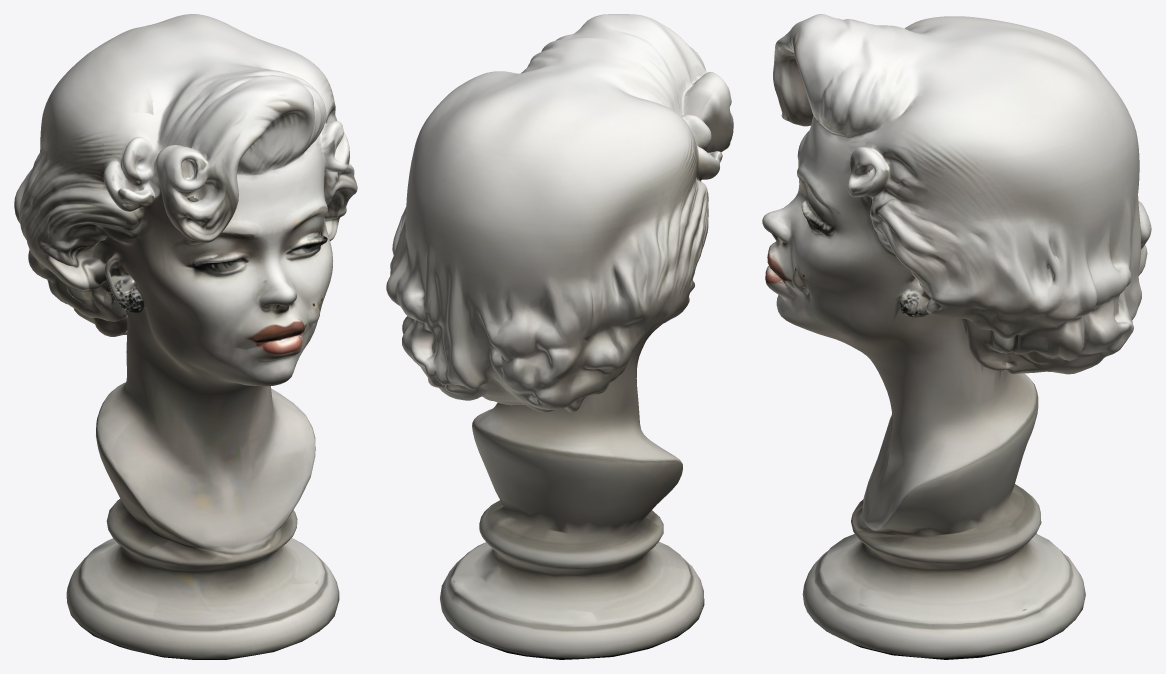
The model's file is female.glb.
The picture shows the model from 3 angles, left to right: view 1: azimuth 30°, elevation 25°; view 2: azimuth 150°, elevation 25°; view 3: azimuth 270°, elevation 25°; orthographic projection. The views are drawn at different scales.
Parts seen in each view (by area): view 1: Marilyn Monroe Bust; view 2: Marilyn Monroe Bust; view 3: Marilyn Monroe Bust.
Boxes of the visible parts, <box> form: Marilyn Monroe Bust: <box>14,14,357,659</box>; Marilyn Monroe Bust: <box>386,14,733,659</box>; Marilyn Monroe Bust: <box>762,14,1151,659</box>.
Bounding box in the file's own units: 0.242 × 0.45 × 0.2743.
Materials: 1 (1 with a texture image).
